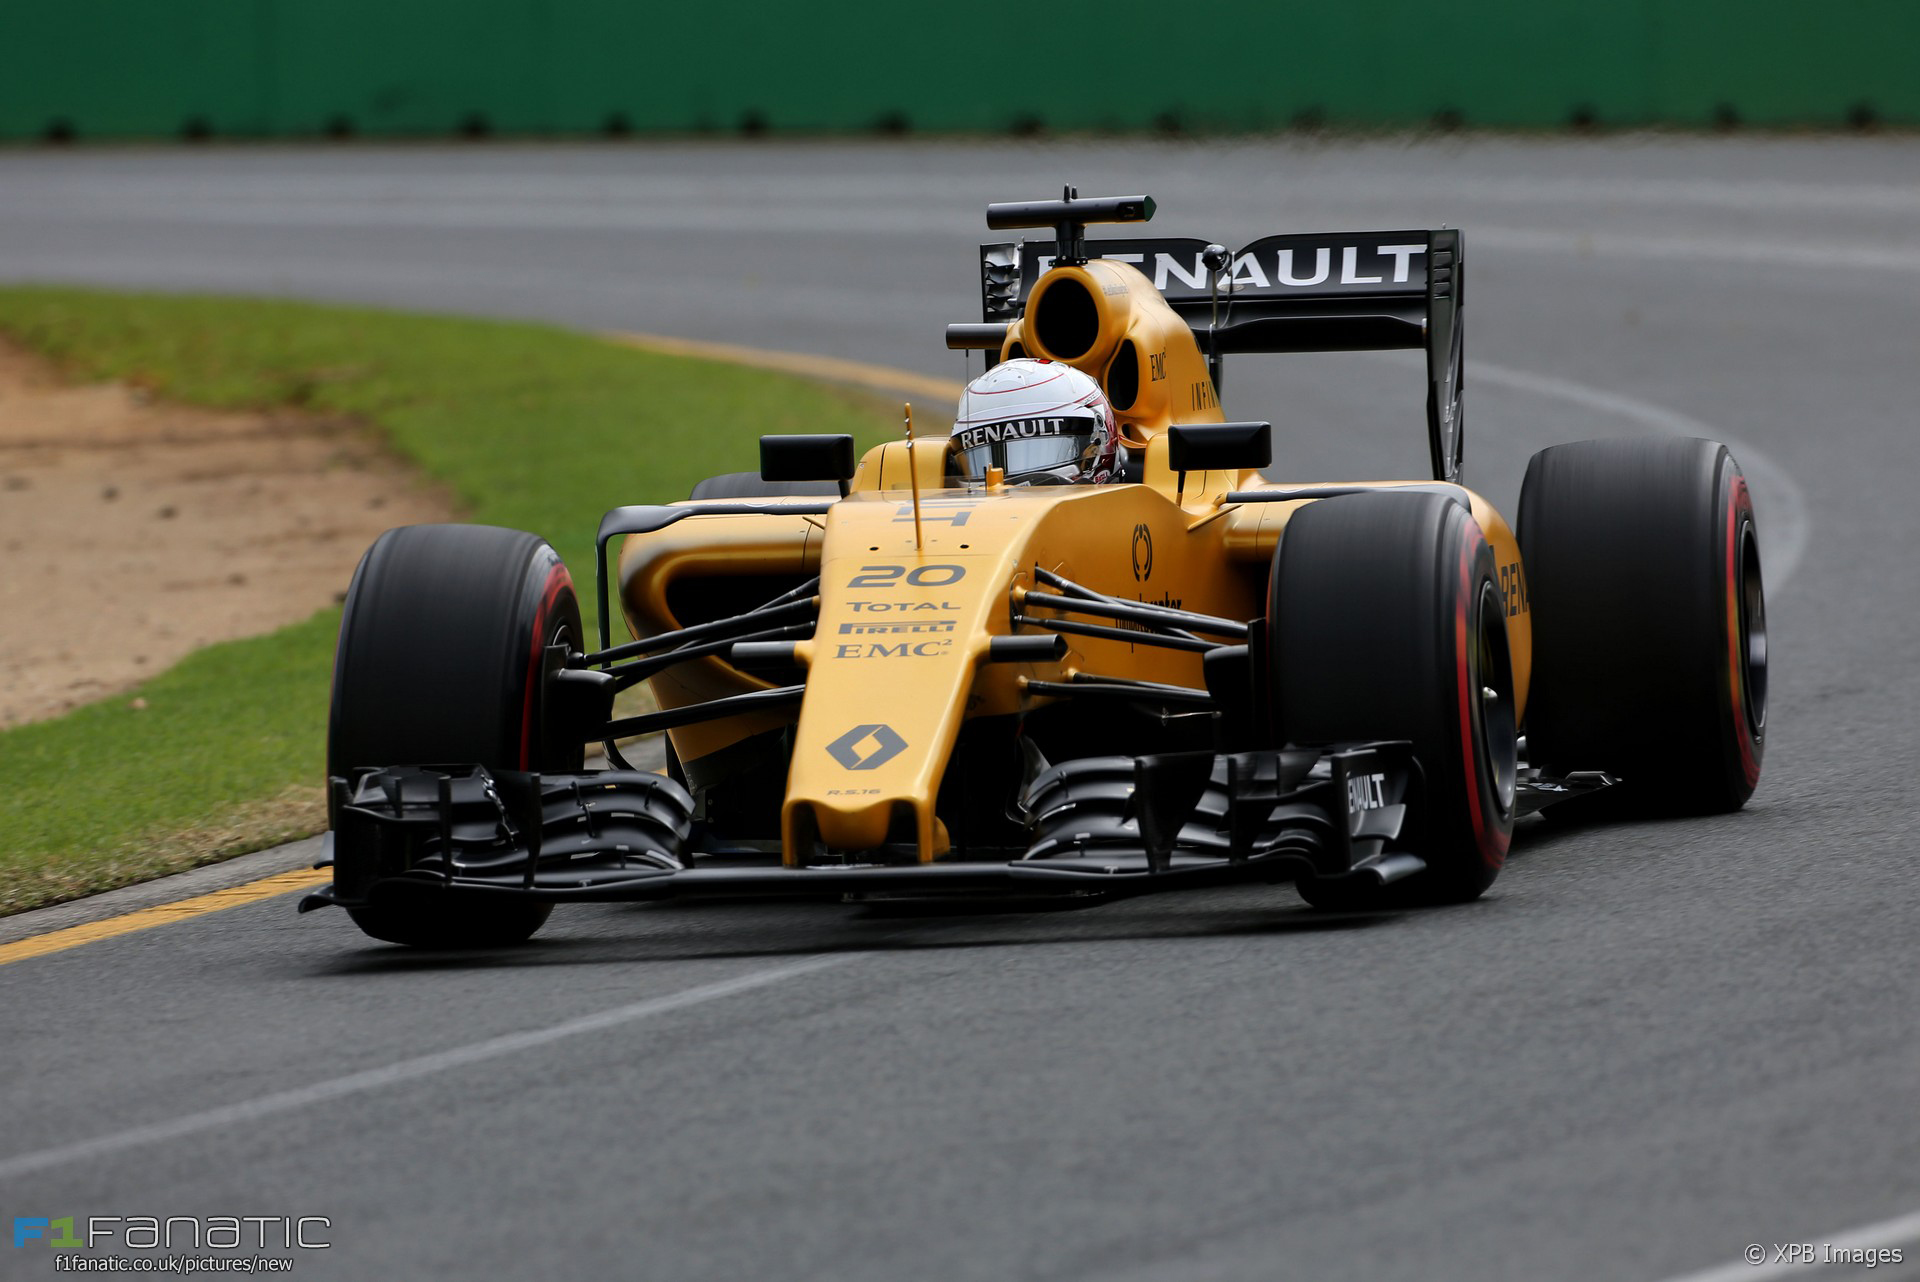F1 Car: (298, 183, 1784, 961)
